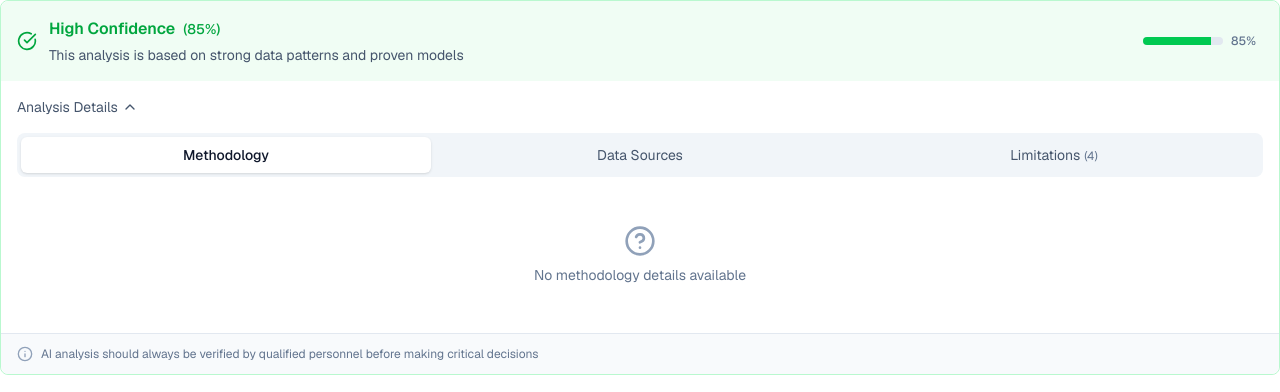
Test case: AiConfidenceIndicator › Empty States › should show empty state for data sources when none provided
Click the button "Data Sources" at coordinates (640, 155), box 435,137 -> 845,173
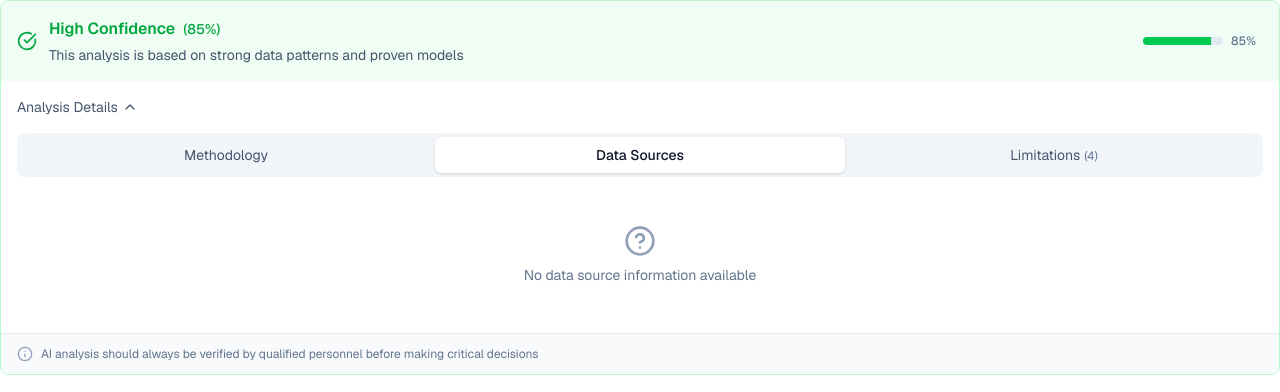
Result: the text "No data source information available" is shown at 524,266 -> 756,284
